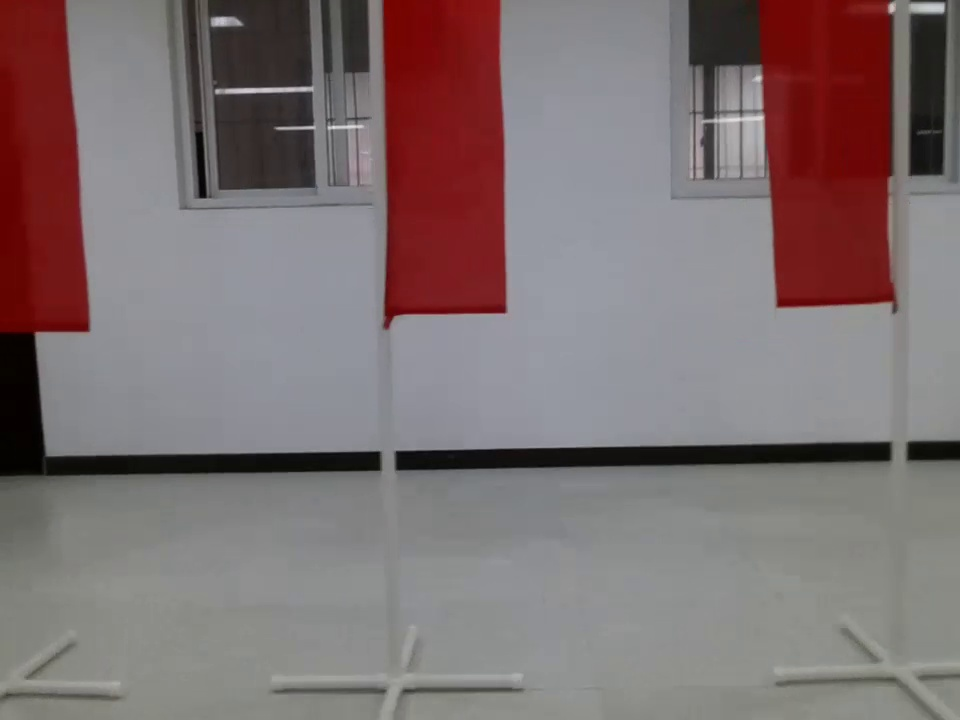qi: (764, 1, 910, 320), (380, 1, 509, 322), (1, 1, 87, 332)
